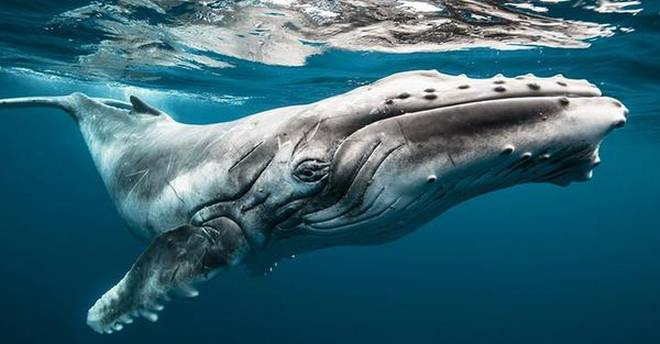humpback: (80, 61, 624, 248)
